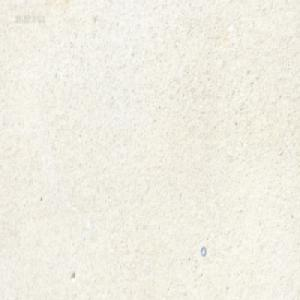Washer: (200, 244, 206, 255)
